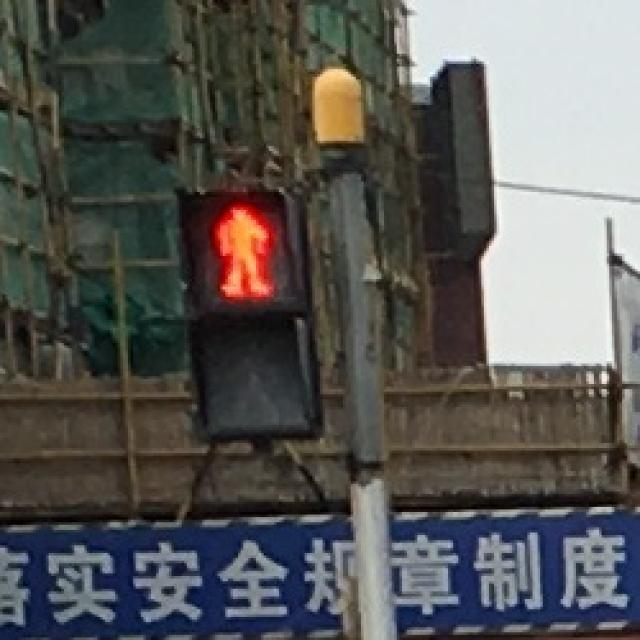red-crossing: (190, 197, 290, 307)
